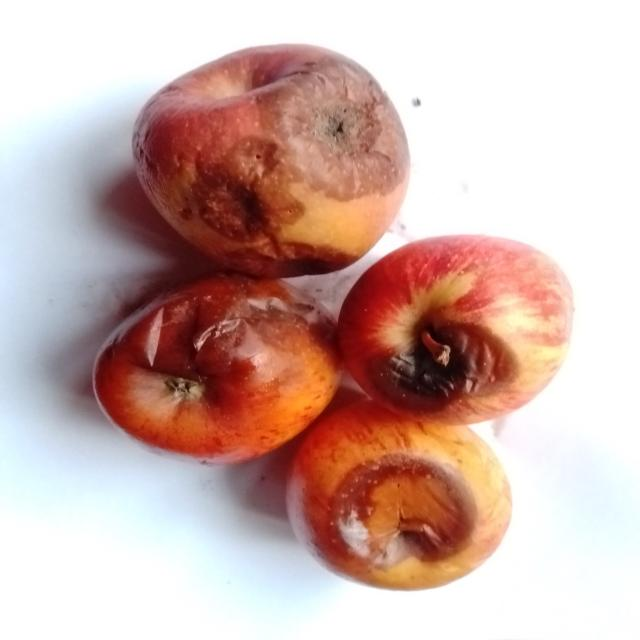apple: (133, 45, 409, 277), (94, 275, 341, 462), (339, 236, 573, 423), (287, 400, 511, 589)
